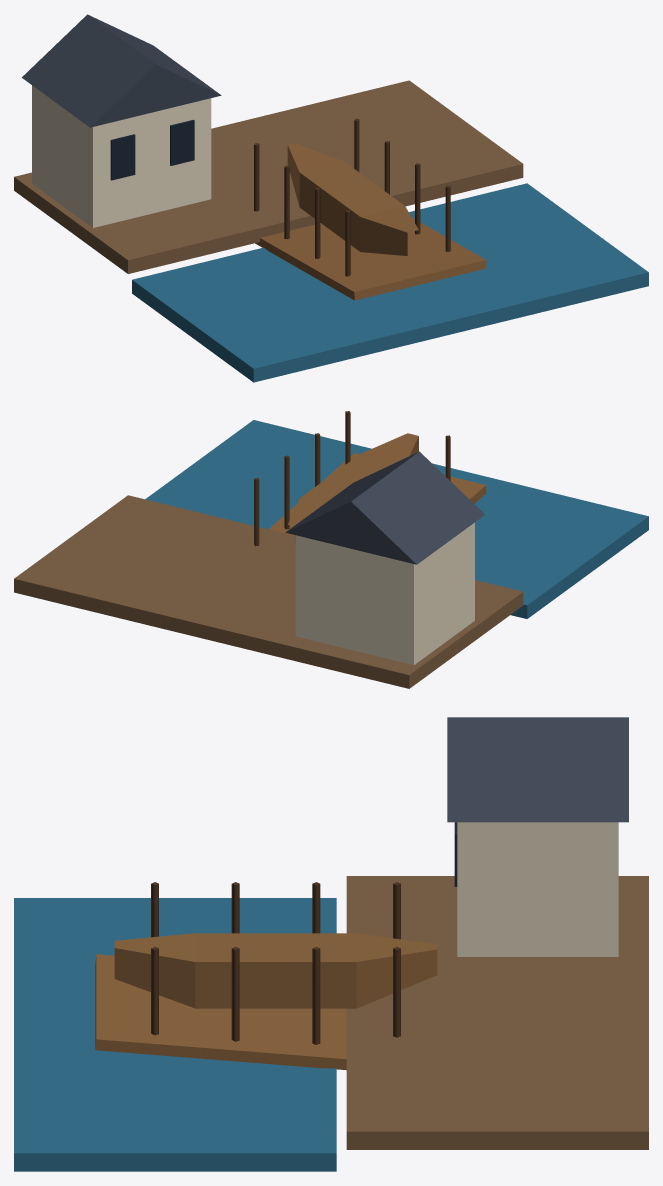
Rendered from bld_special_shipyard_a03_lod1.glb.
3 renders of one model, top to bottom at view 1: azimuth 30°, elevation 25°; view 2: azimuth 150°, elevation 25°; view 3: azimuth 270°, elevation 25°, orthographic. The views are drawn at different scales.
Visible parts, largest first — view 1: body; view 2: body; view 3: body.
Boxes of the visible parts, x1,y1,x2,y2 form: body: (14,14,648,382); body: (14,411,648,688); body: (14,717,648,1171).
Bounding box in the file's own units: 15 × 6.61 × 15.75.
